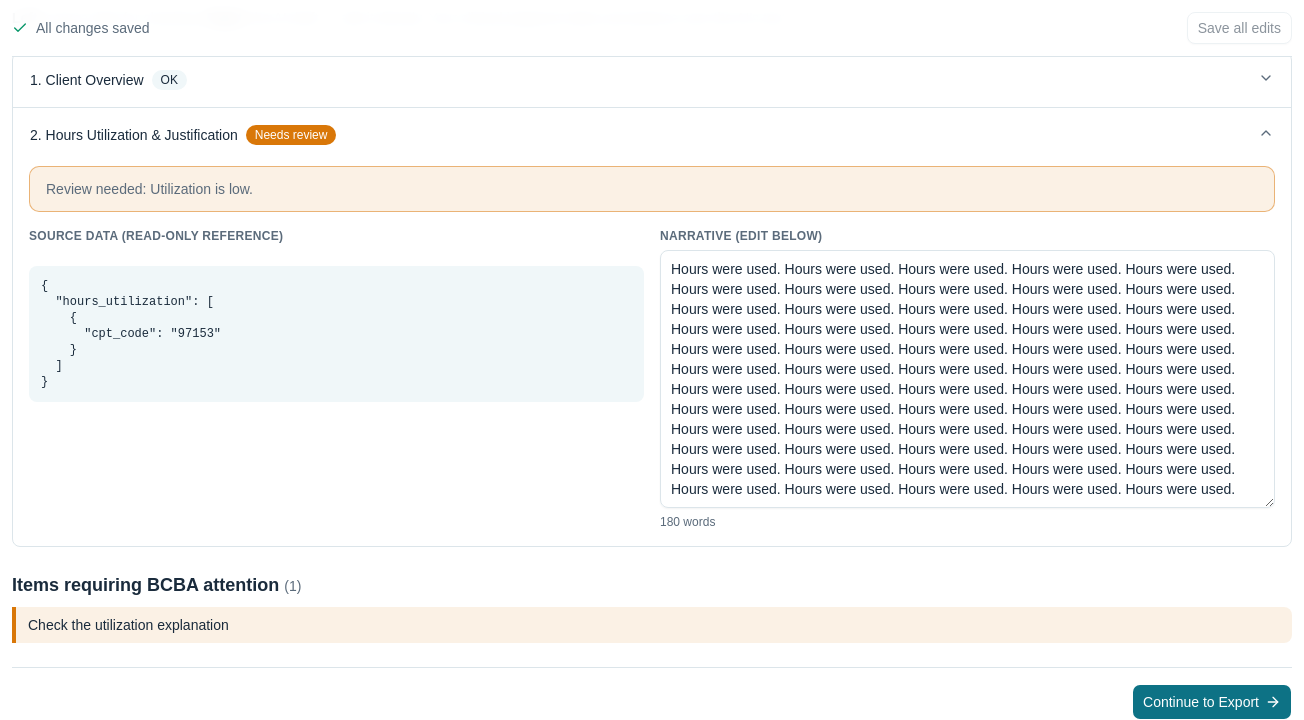
Scenario: Generate page › shows why a save was refused and keeps the text
(page scrolled)
Type "!" into the text box named "Edit Hours Utilization & Justification" at (968, 379), box [660,250,1275,508]
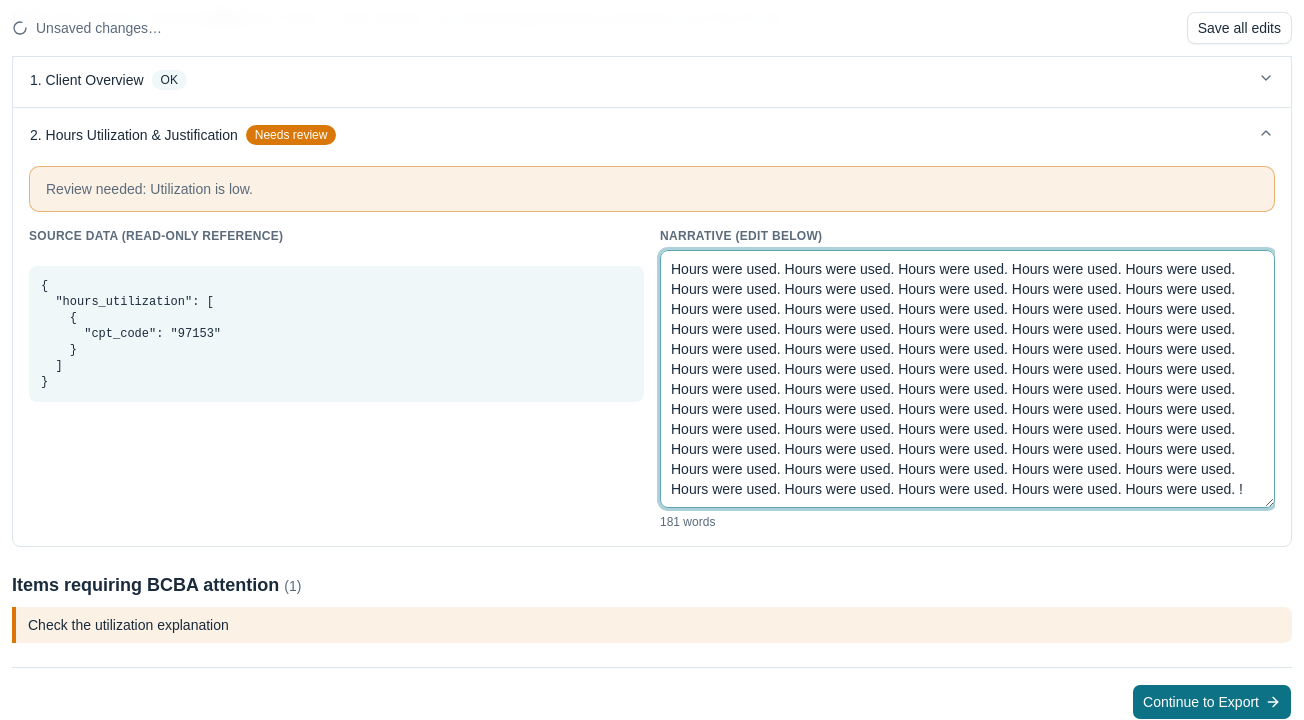
Click the button "Save all edits" at (1239, 28), box [1187,12,1292,44]
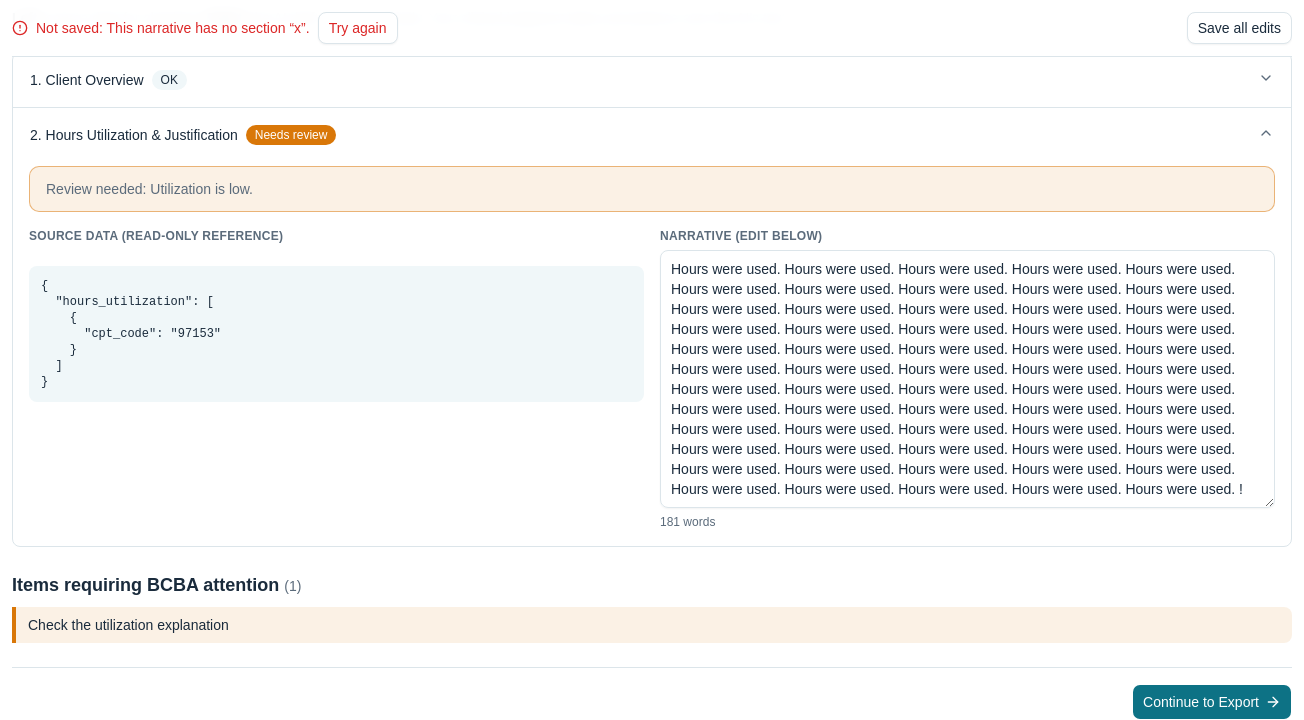
Expected: the text "Not saved: This narrative has no section “x”." is shown, [36,18,310,38]
